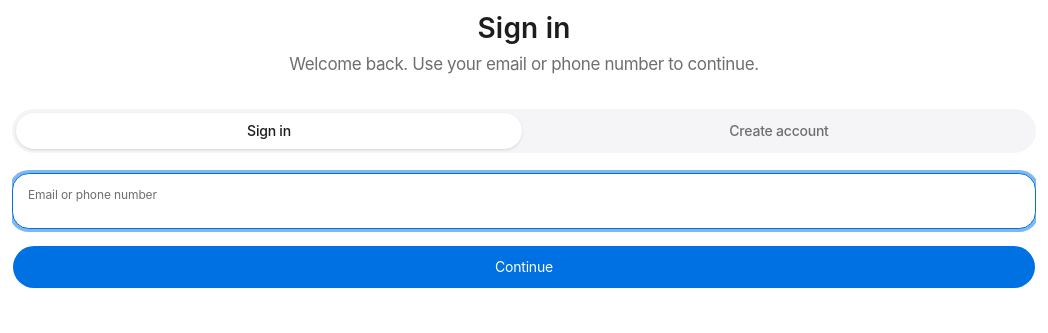
it: SignInFlow with a phone number › stays on the first step and says why when the code cannot be sent
Type "+1 415 555 2671" into the field labelled "Email or phone number" at (524, 201), box 12,173 -> 1036,229
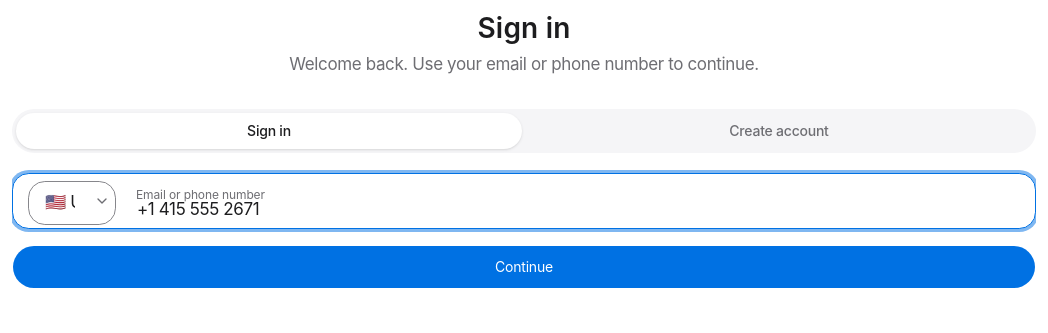
Click the button "Continue" at (524, 267), box 12,245 -> 1036,289
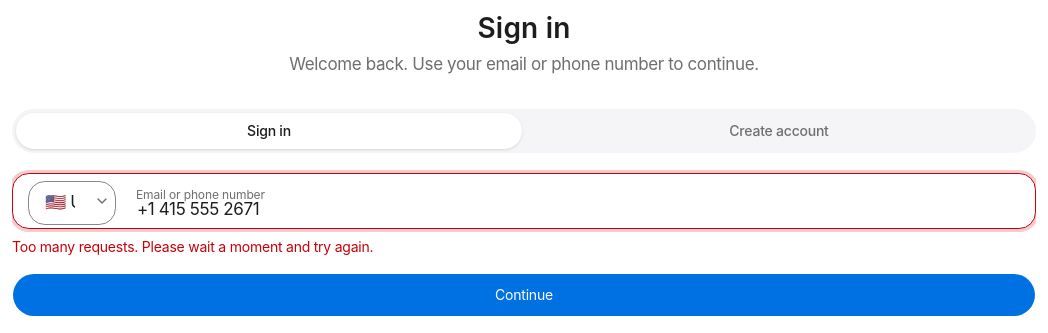
Expected: the heading "Sign in" is shown, 478,11 -> 571,45
Expected: the message "Too many requests. Please wait a moment and try again." is shown, 12,238 -> 373,255
